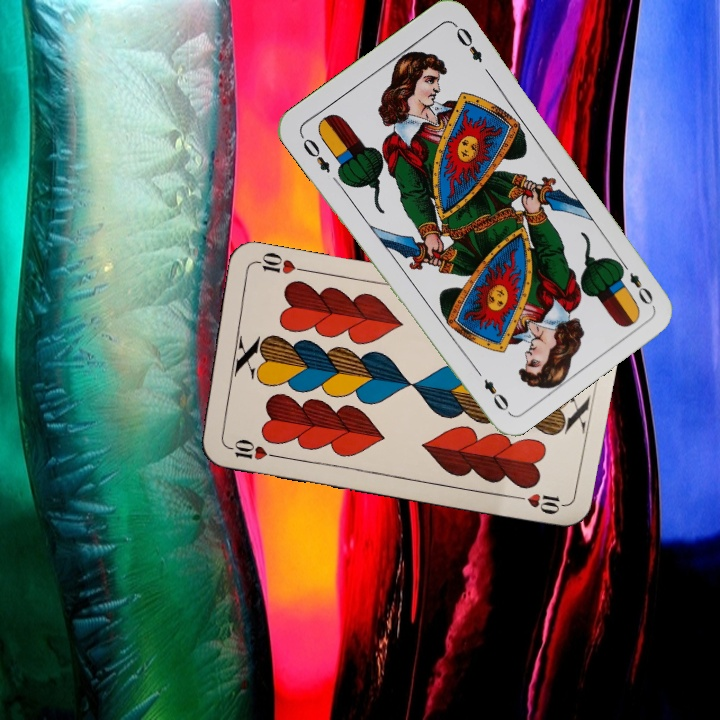EO: (615, 256, 656, 308), (296, 131, 333, 176)
H10: (222, 435, 281, 463)
